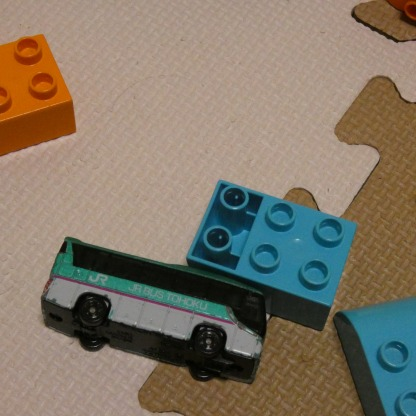car: (40, 233, 268, 387)
